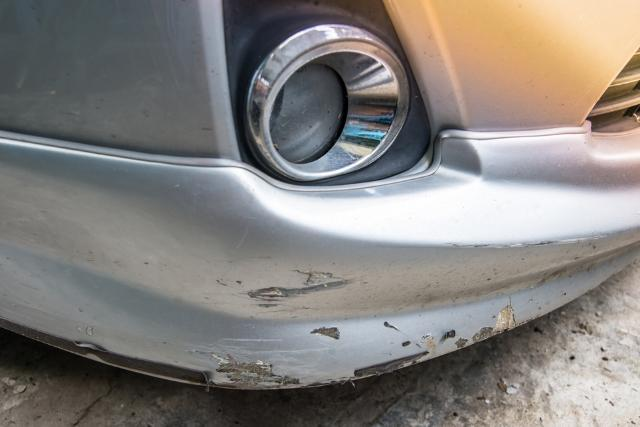Bumper: (90, 163, 573, 399)
